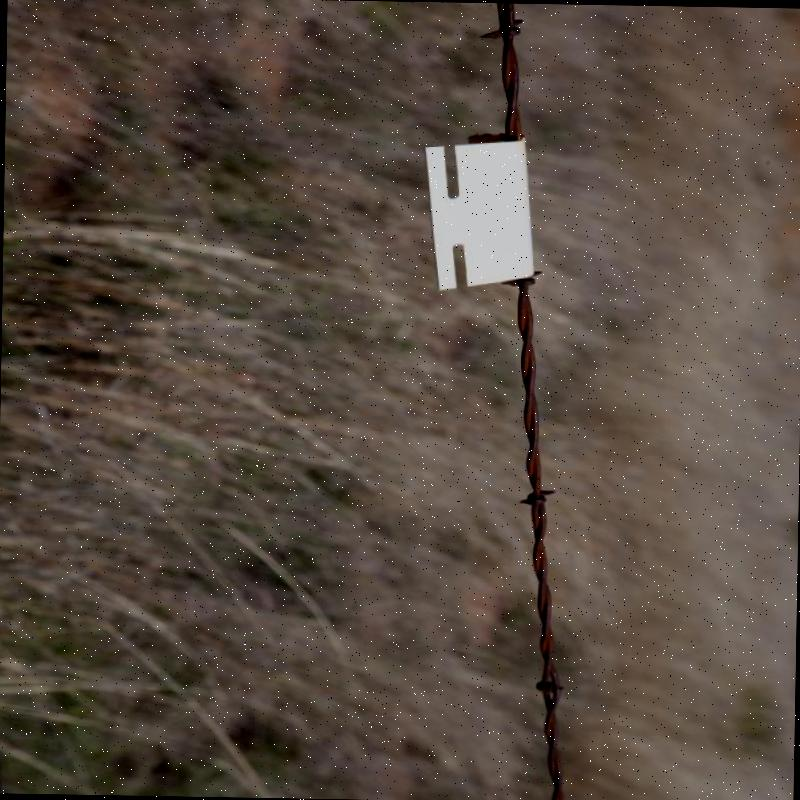Fracture: (472, 2, 597, 772)
